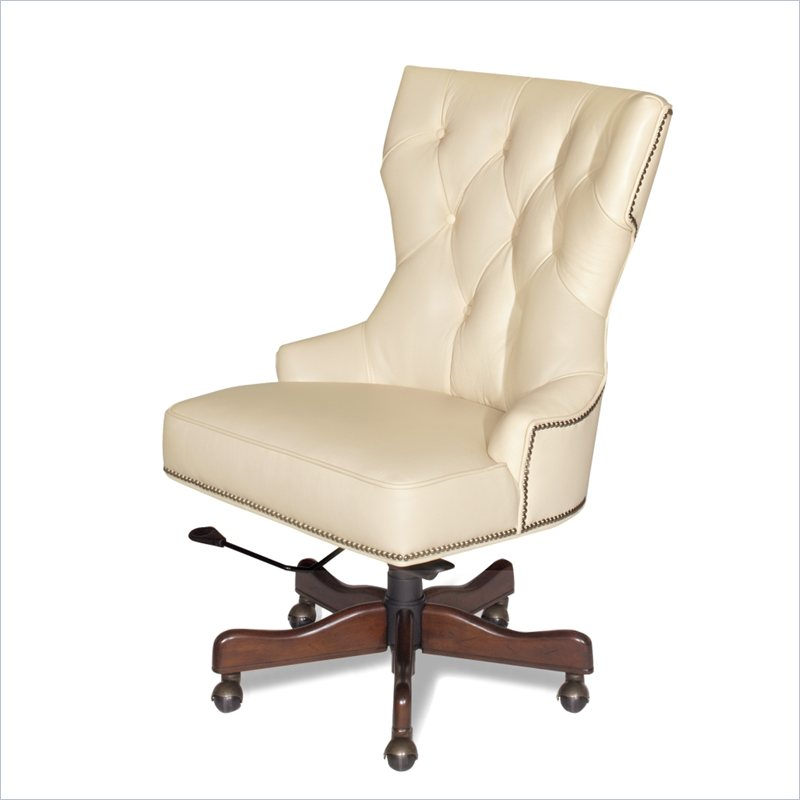chairs: (160, 60, 678, 778)
